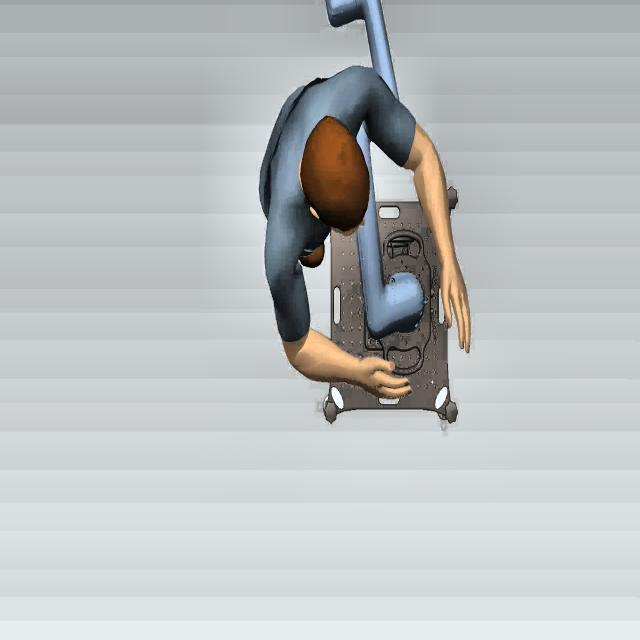robot: (312, 0, 429, 342)
